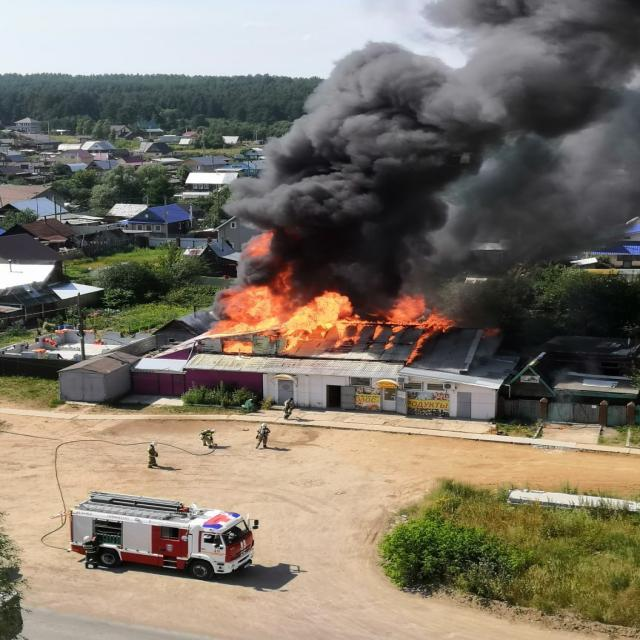Fire: (209, 262, 364, 354), (370, 293, 458, 362)
Smoke: (212, 0, 640, 318)
